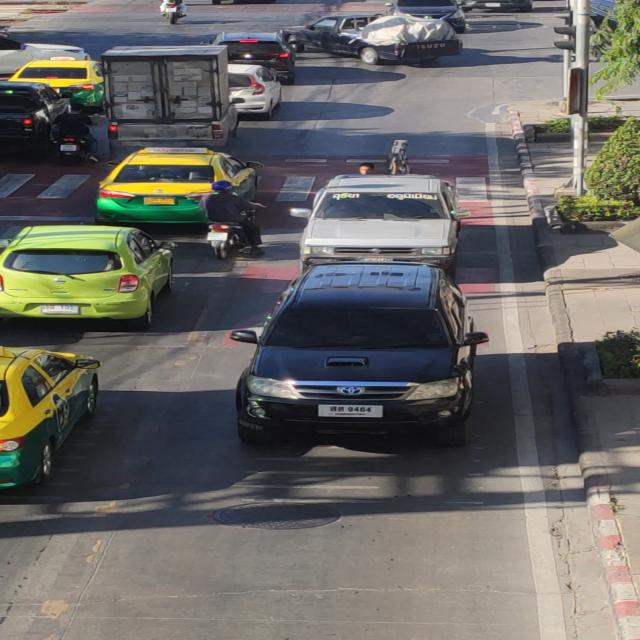car: (208, 259, 499, 447), (287, 142, 468, 268)
